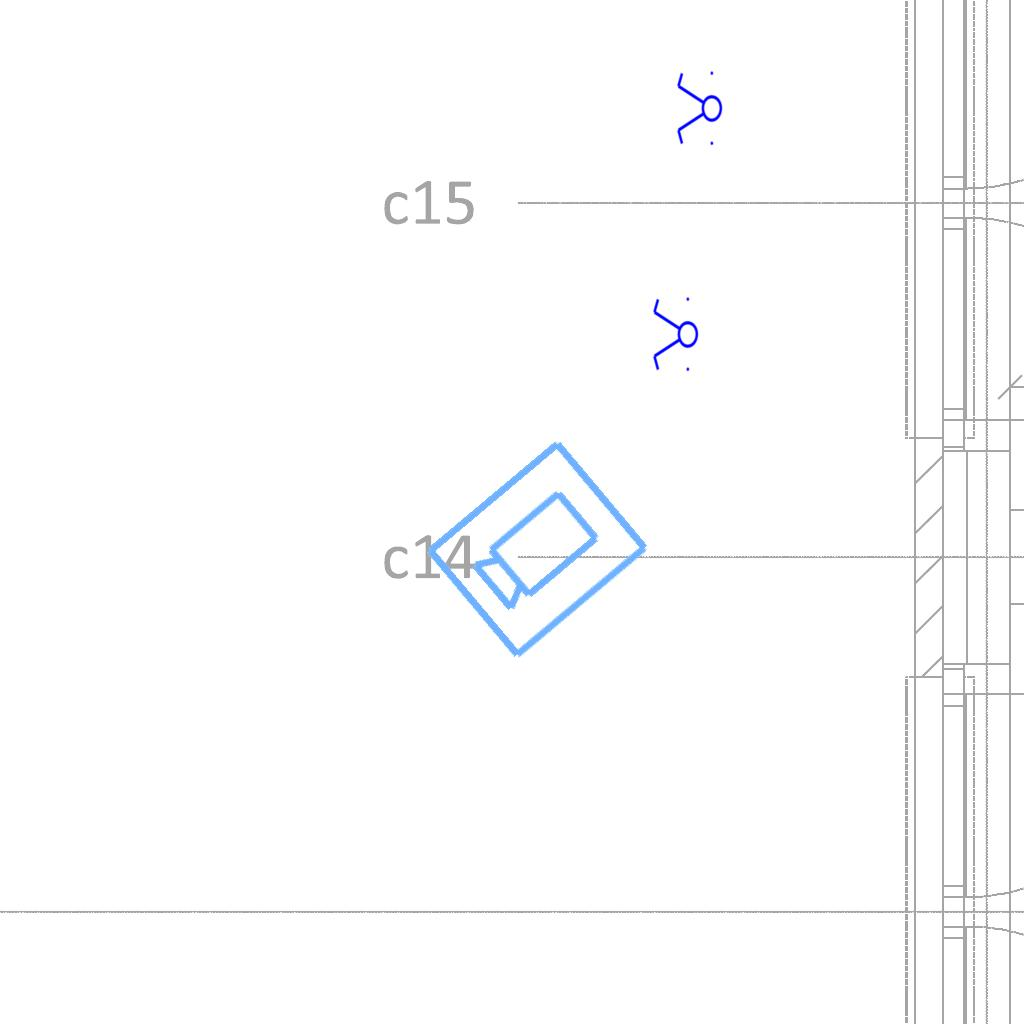KFO_Kamera_mit_Festobjektiv: (417, 430, 657, 666)
Serienschalter: (675, 67, 723, 151), (651, 293, 699, 377)
